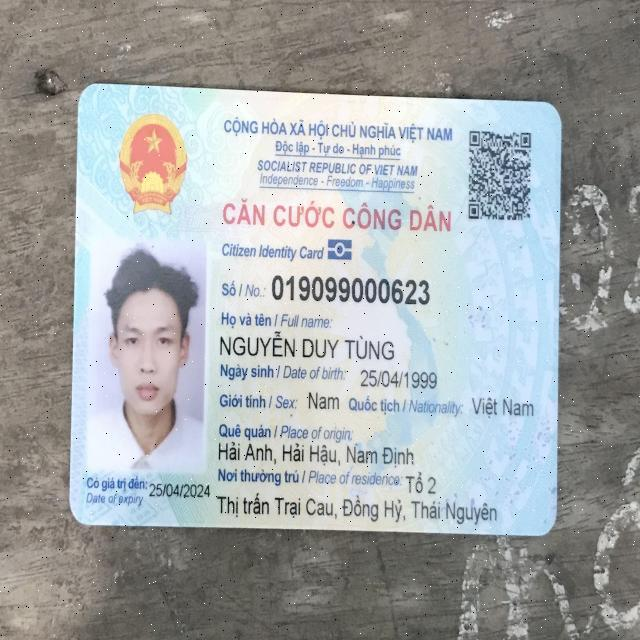current_place: (218, 489, 500, 523), (407, 471, 438, 497)
dob: (359, 363, 439, 390)
expire_date: (150, 478, 211, 503)
gender: (303, 385, 342, 415)
id: (266, 266, 434, 305)
name: (215, 327, 401, 361)
nationality: (470, 386, 535, 423)
origin_place: (216, 438, 413, 470)
